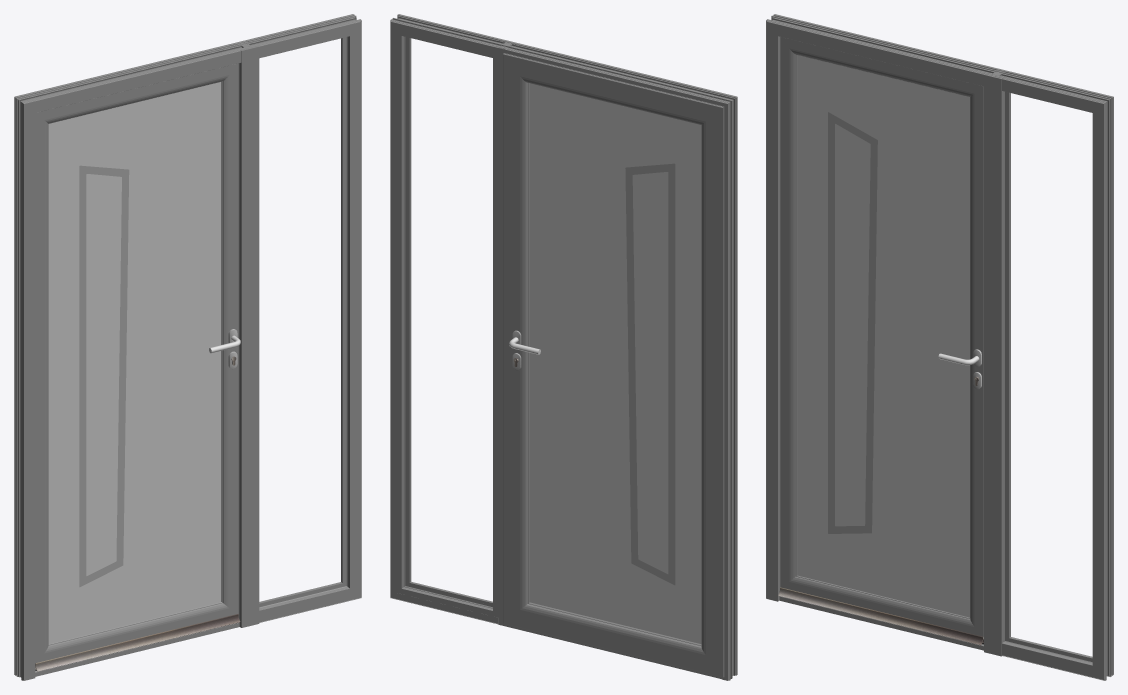
3 renders of one model, left to right at view 1: azimuth 30°, elevation 25°; view 2: azimuth 150°, elevation 25°; view 3: azimuth 330°, elevation 25°, orthographic.
Parts seen in each view (by area): view 1: fosco_12, aroFixo, aroMovel, montanteCentral, transparente_12, bite, borracha, escovas, rodaPe; view 2: fosco_12, aroMovel, aroFixo, bite, transparente_12, montanteCentral, borracha, rodaPe; view 3: fosco_12, aroFixo, aroMovel, montanteCentral, transparente_12, bite, escovas, borracha, rodaPe.
Part boxes in pixels (x1,y1,x2,y2): fosco_12: (48, 82, 221, 643); aroFixo: (14, 14, 361, 680); aroMovel: (35, 63, 238, 663); montanteCentral: (238, 42, 259, 627); transparente_12: (79, 165, 129, 587); bite: (259, 37, 346, 607); borracha: (259, 37, 345, 606); escovas: (35, 614, 240, 671); rodaPe: (35, 622, 239, 676); fosco_12: (529, 83, 701, 644); aroMovel: (503, 53, 724, 677); aroFixo: (390, 14, 737, 680); bite: (396, 29, 498, 617); transparente_12: (625, 163, 675, 585); montanteCentral: (498, 40, 518, 626); borracha: (404, 36, 492, 608); rodaPe: (505, 624, 721, 679); fosco_12: (797, 55, 969, 617); aroFixo: (766, 14, 1113, 680); aroMovel: (780, 37, 983, 638); montanteCentral: (984, 70, 1004, 656); transparente_12: (828, 112, 877, 533); bite: (1005, 91, 1092, 661); escovas: (778, 587, 983, 645); borracha: (1006, 92, 1092, 660); rodaPe: (779, 596, 983, 650).
Bounding box in the file's own units: 1320 × 2149 × 185.
10 materials, 4 textured.
